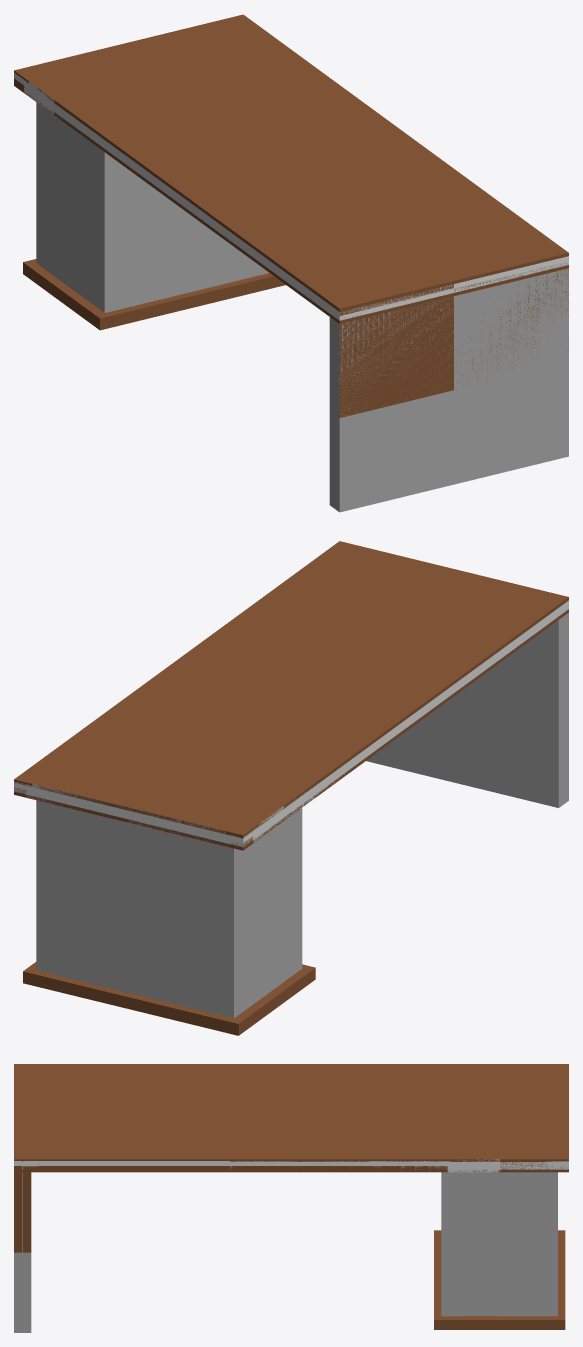
File: shattered_teahouse_table.fbx
3 renders of one model, top to bottom at view 1: azimuth 30°, elevation 25°; view 2: azimuth 150°, elevation 25°; view 3: azimuth 270°, elevation 25°, orthographic. The views are drawn at different scales.
Parts seen in each view (by area): view 1: Cube, Cube_cell.005, Cube_cell.031, Cube_cell.019, Cube_cell.001, Cube_cell.016, Cube_cell.007, Cube_cell.028, Cube_cell.041, Cube_cell.030; view 2: Cube, Cube_cell.038, Cube_cell.001, Cube_cell.003, Cube_cell.016, Cube_cell.034, Cube_cell.018, Cube_cell.005, Cube_cell.039, Cube_cell.019, Cube_cell.021, Cube_cell.017; view 3: Cube, Cube_cell.007, Cube_cell.003, Cube_cell.017, Cube_cell.018, Cube_cell.033, Cube_cell.006, Cube_cell.049, Cube_cell.043, Cube_cell.051, Cube_cell.028, Cube_cell.036 (+2 smaller).
Boxes of the visible parts, box(x1,y1,x2,y2) form: Cube: box(14, 14, 568, 512); Cube_cell.005: box(61, 200, 207, 326); Cube_cell.031: box(339, 295, 453, 417); Cube_cell.019: box(55, 106, 178, 224); Cube_cell.001: box(28, 175, 70, 301); Cube_cell.016: box(24, 82, 70, 198); Cube_cell.007: box(203, 225, 285, 303); Cube_cell.028: box(455, 267, 568, 389); Cube_cell.041: box(339, 283, 453, 315); Cube_cell.030: box(337, 277, 453, 309); Cube: box(14, 541, 568, 1035); Cube_cell.038: box(444, 691, 558, 807); Cube_cell.001: box(131, 906, 276, 1027); Cube_cell.003: box(29, 882, 134, 1008); Cube_cell.016: box(128, 790, 283, 929); Cube_cell.034: box(463, 620, 558, 713); Cube_cell.018: box(26, 773, 167, 903); Cube_cell.005: box(268, 881, 309, 1002); Cube_cell.039: box(366, 704, 443, 779); Cube_cell.019: box(189, 730, 314, 904); Cube_cell.021: box(165, 651, 322, 710); Cube_cell.017: box(84, 713, 213, 777); Cube: box(14, 1064, 568, 1332); Cube_cell.007: box(434, 1241, 499, 1329); Cube_cell.003: box(500, 1241, 565, 1329); Cube_cell.017: box(441, 1159, 499, 1240); Cube_cell.018: box(500, 1159, 557, 1240); Cube_cell.033: box(23, 1171, 230, 1252); Cube_cell.006: box(231, 1161, 451, 1165); Cube_cell.049: box(231, 1166, 447, 1170); Cube_cell.043: box(23, 1161, 230, 1165); Cube_cell.051: box(23, 1166, 230, 1170); Cube_cell.028: box(14, 1171, 22, 1252); Cube_cell.036: box(14, 1253, 22, 1332).
Bounding box in the file's own units: 222 × 76.64 × 90.29.
